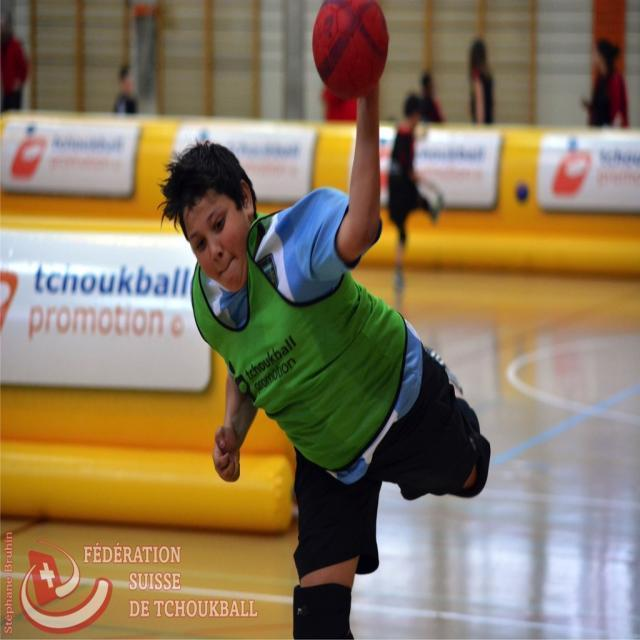ball: (310, 1, 390, 103)
